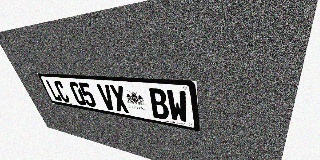0: (68, 82, 87, 106)
5: (78, 82, 97, 108)
B: (147, 88, 170, 120)
C: (53, 80, 71, 103)
L: (45, 80, 63, 102)
V: (96, 84, 117, 111)
W: (166, 89, 189, 123)
X: (109, 85, 130, 113)
